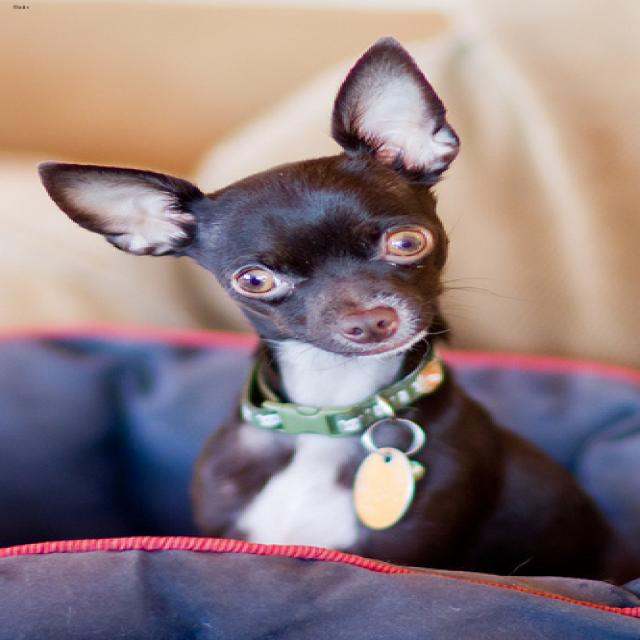dog-chihuahua: (23, 20, 627, 590)
